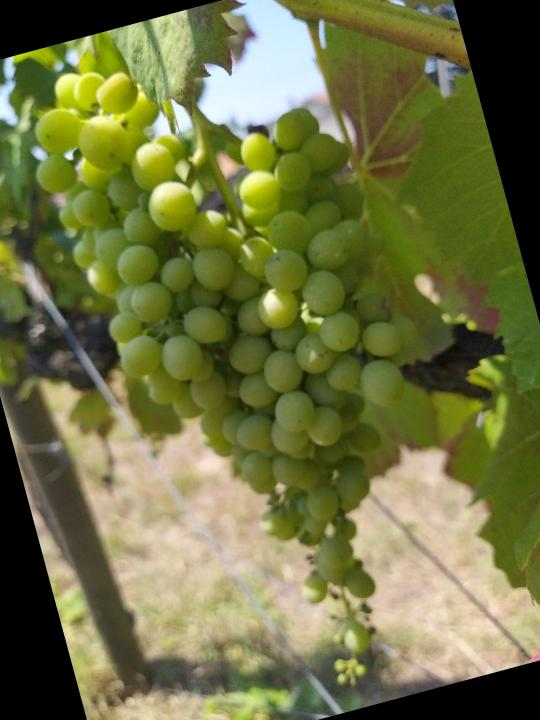grape: (11, 5, 487, 720)
